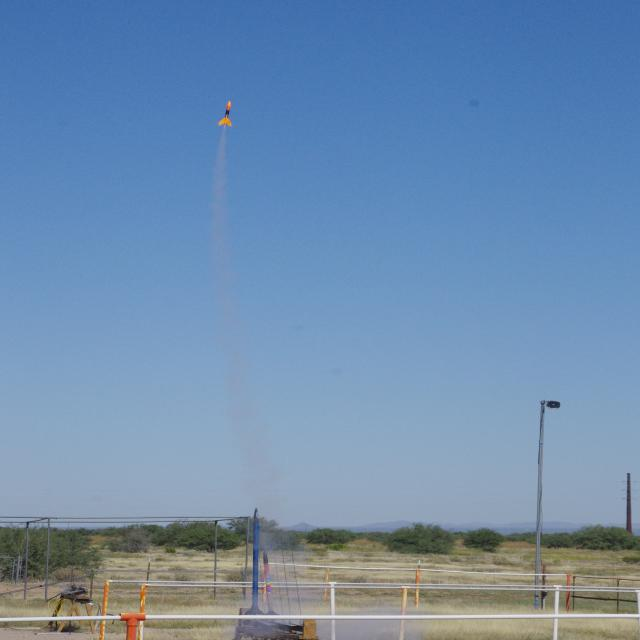Rocket: (245, 508, 262, 616), (263, 549, 279, 617), (218, 100, 233, 128)
